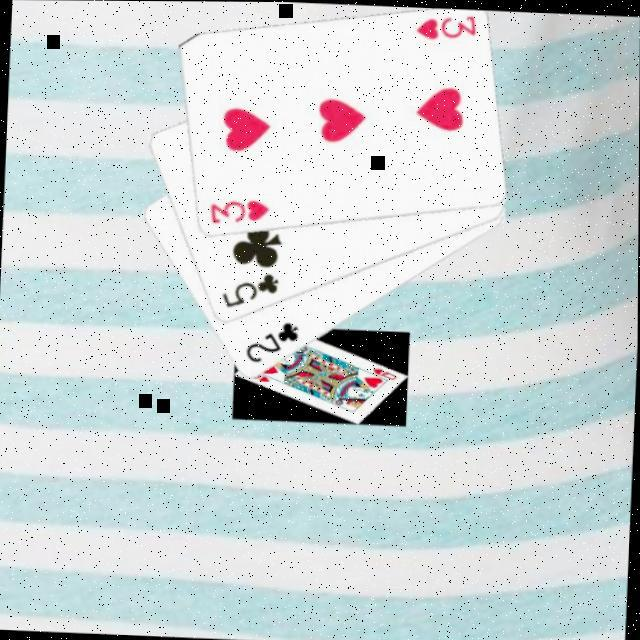2C: (242, 317, 303, 367)
3H: (413, 10, 480, 44), (207, 196, 273, 228)
5C: (219, 269, 282, 313)
